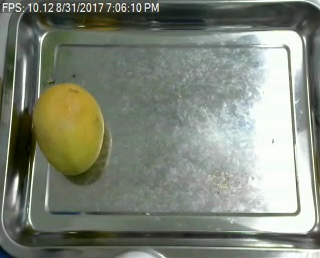Mango: (29, 85, 108, 177)
